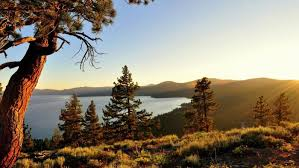mountain: (34, 87, 299, 166)
sky: (117, 1, 299, 78)
tree: (1, 1, 87, 152), (64, 68, 145, 152), (179, 69, 220, 129)
